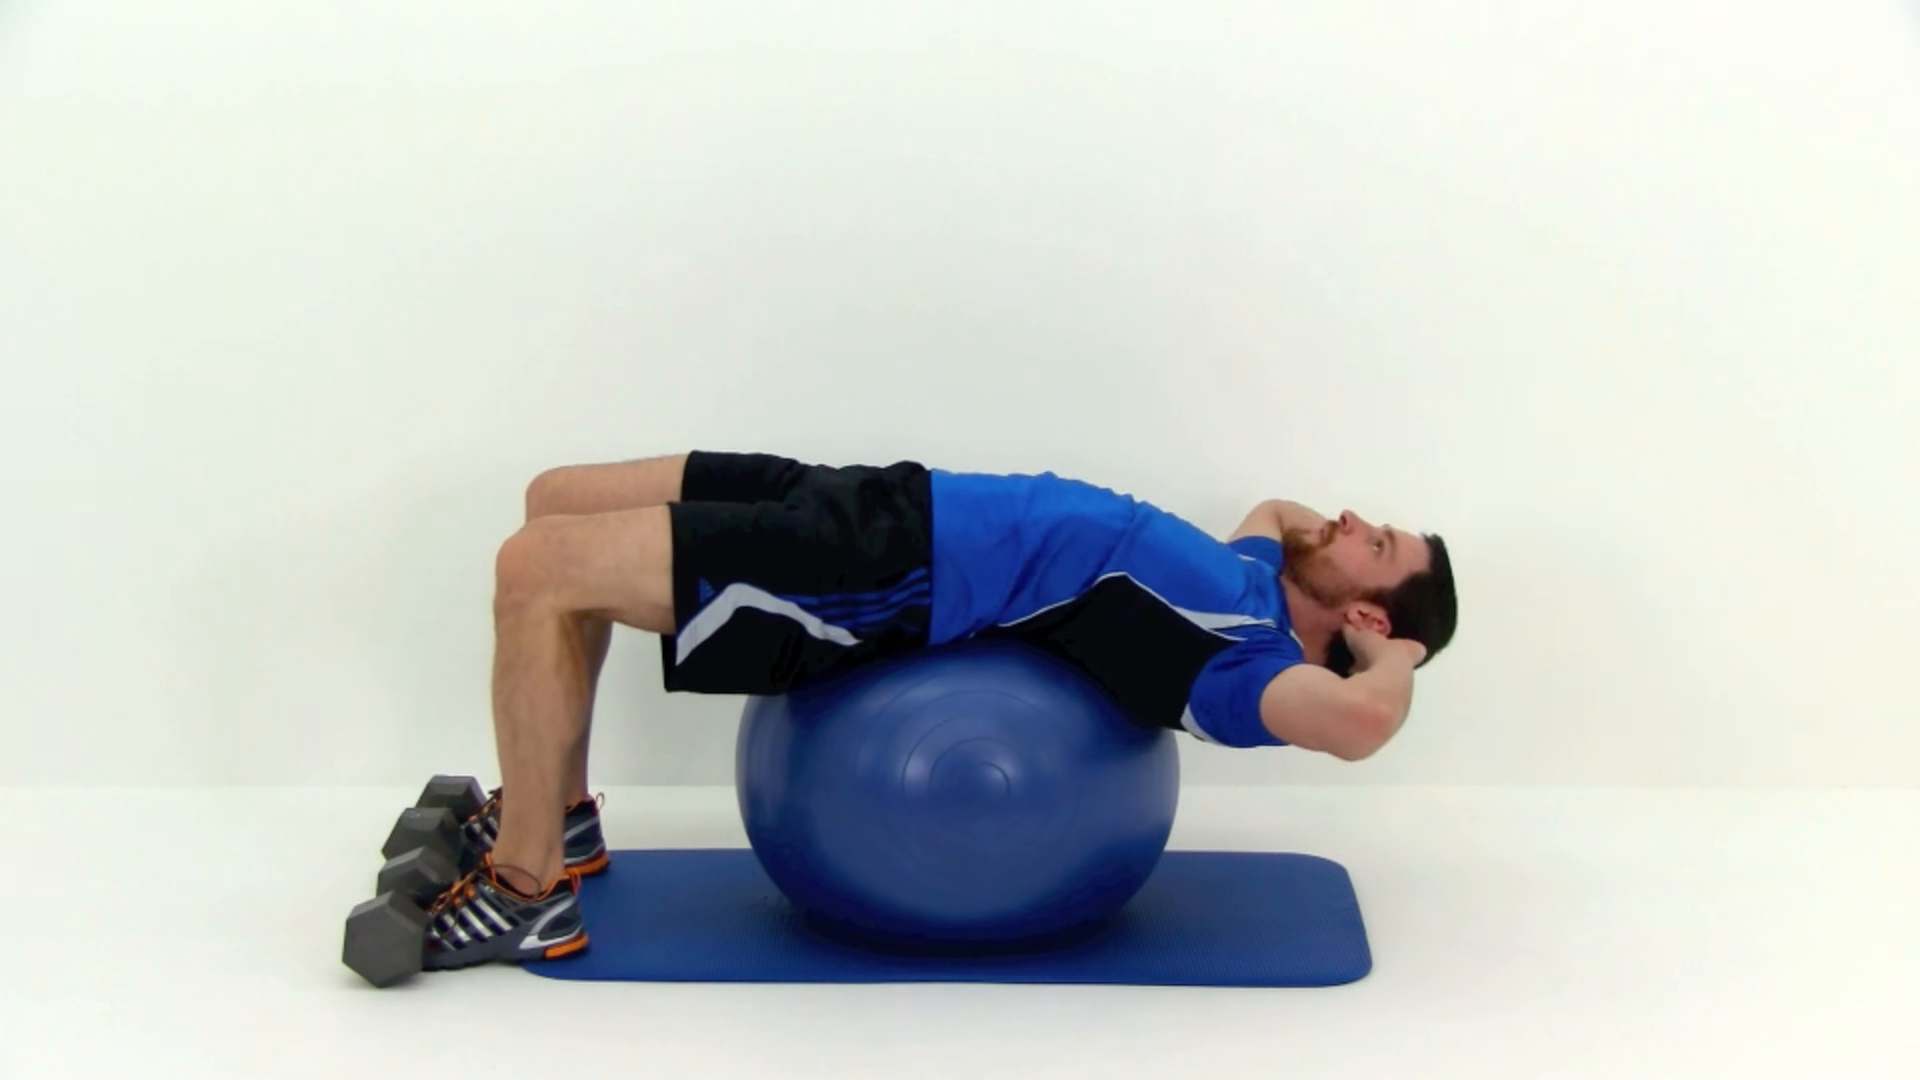yogaball: (719, 616, 1197, 965)
